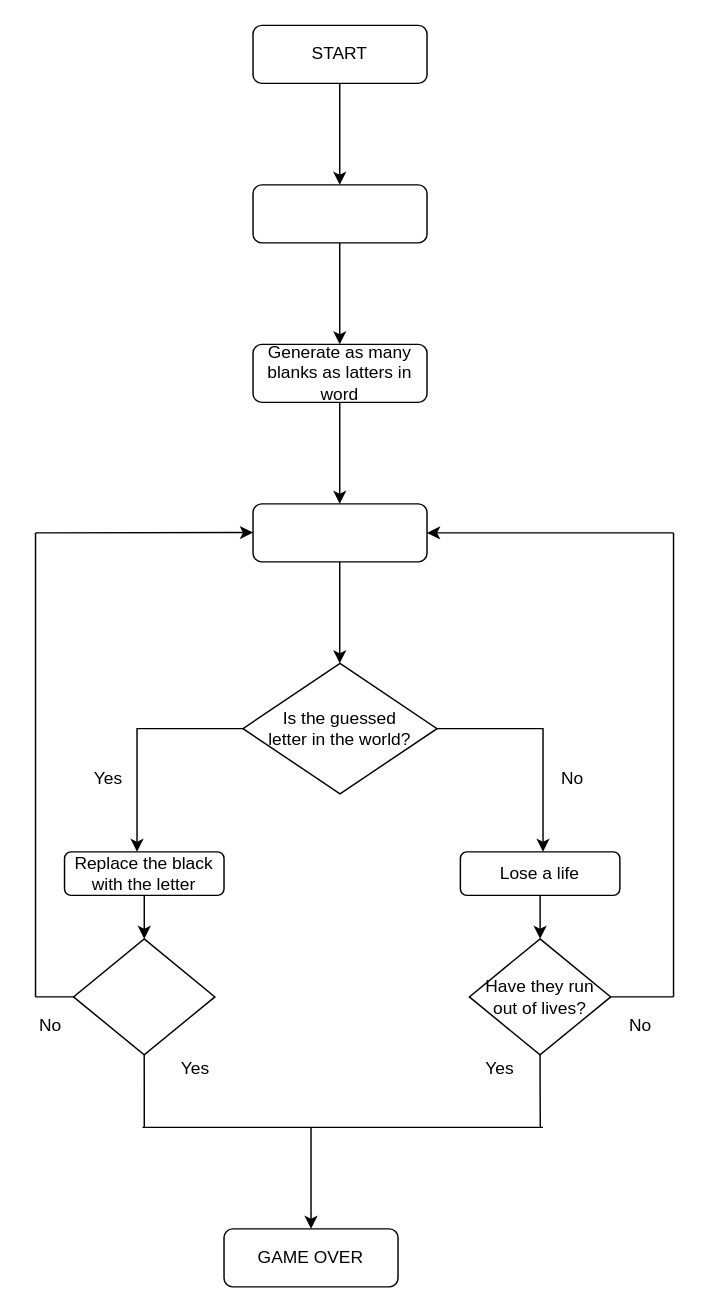
This 711x1312 diagram has some shape labels left out. Here are the shapes that lost their labels. From the top down, the box of each, then its label:
(252, 183, 427, 243): Generate a random word
(252, 502, 427, 562): Ask the user to guess a letter
(72, 937, 215, 1055): Are all the blanks filled?
